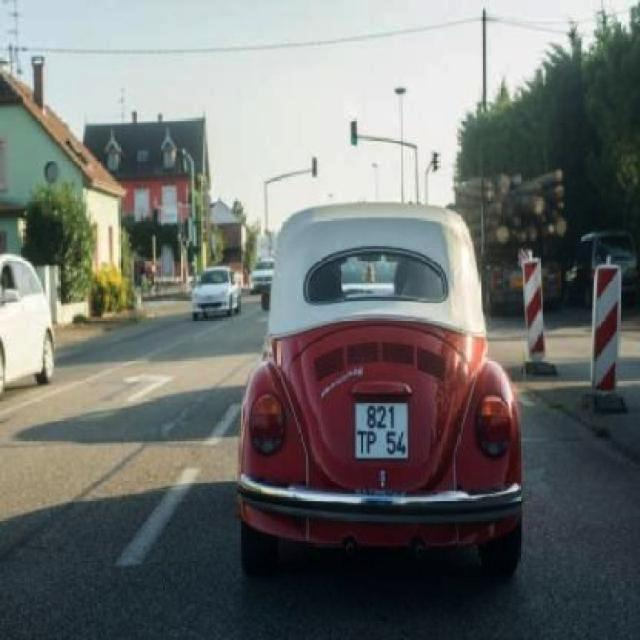car: (255, 199, 524, 567), (0, 266, 52, 386), (189, 264, 242, 318)
